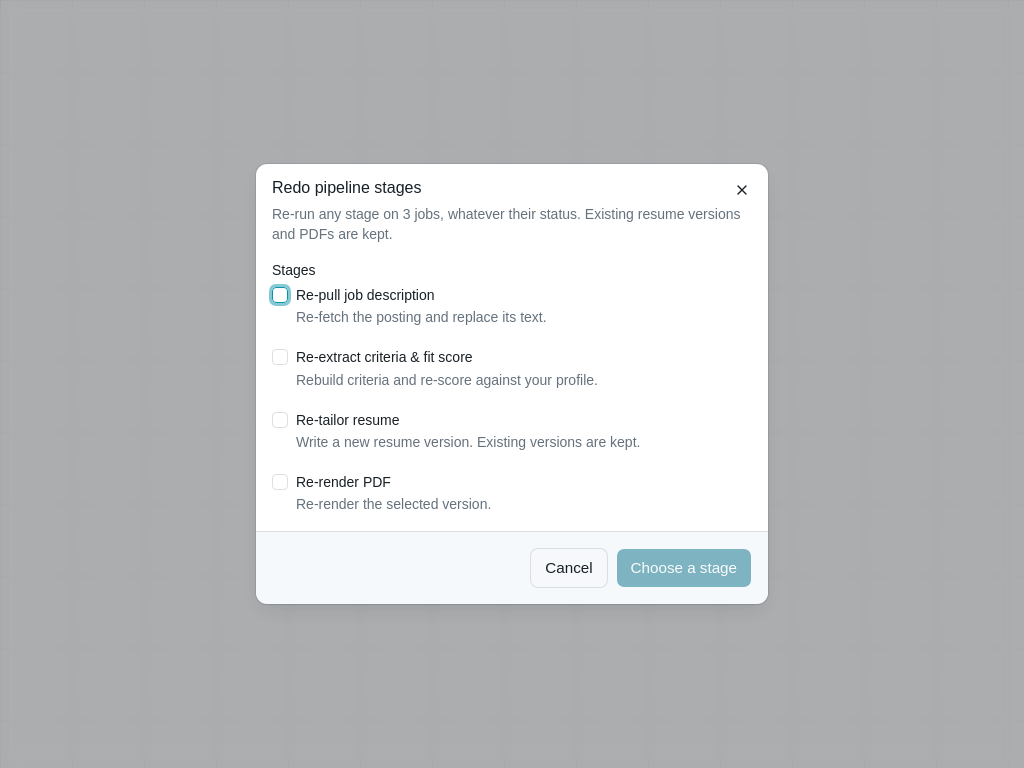
it: RedoDialog › pre-ticks re-extract when re-pull is ticked
Click the checkbox named "re-pull job description" next to "Re-pull job description" at (280, 295), box [272,287,288,303]
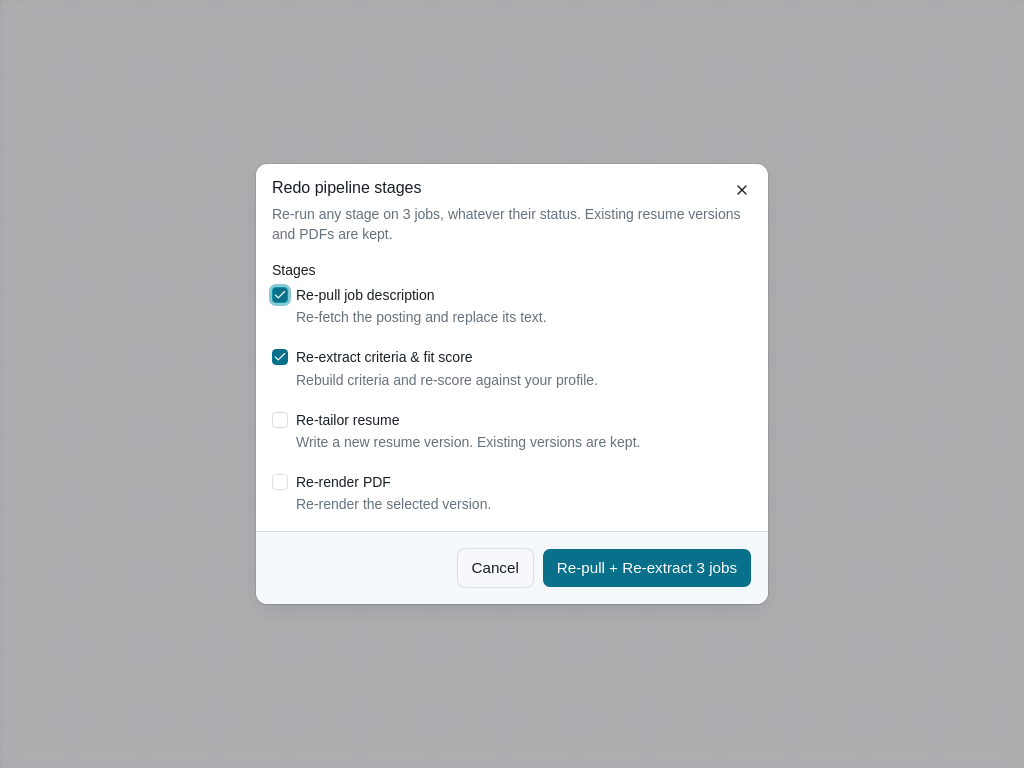
Now the checkbox named "re-extract criteria" next to "Re-extract criteria & fit score" is checked, box [272,349,288,365]
